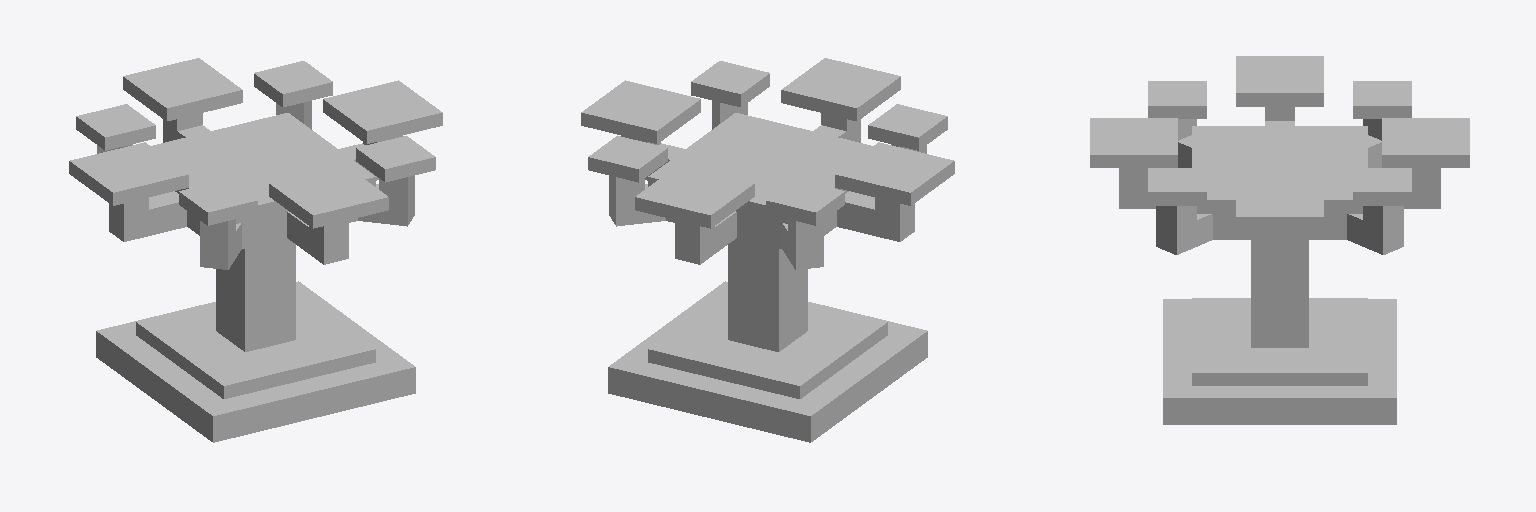
Rendered from altar.obj.
3 views of the same model, side by side, from view 1: azimuth 30°, elevation 25°; view 2: azimuth 150°, elevation 25°; view 3: azimuth 270°, elevation 25° (orthographic).
Visible parts, largest first — view 1: cube; view 2: cube; view 3: cube.
Boxes of the visible parts, <box> form: cube: <box>69,58,442,442</box>; cube: <box>581,58,954,442</box>; cube: <box>1090,56,1469,424</box>.
Size of the model in its own units: 1.62 by 1.12 by 1.62.